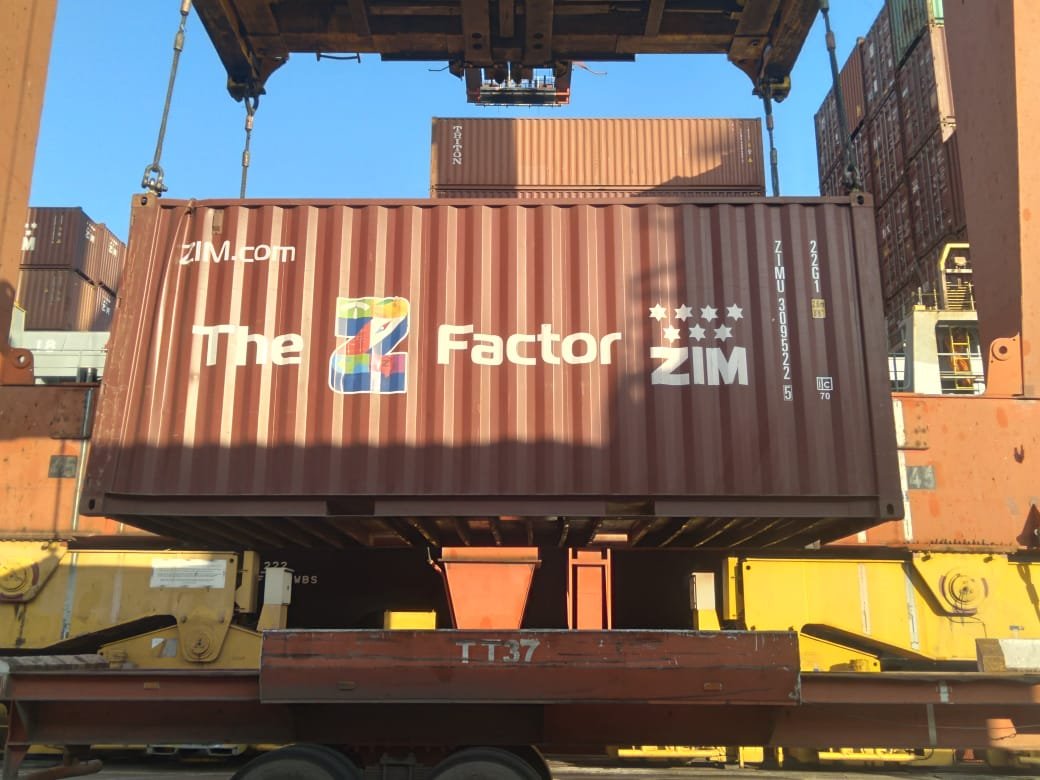moderate: (152, 197, 243, 349)
